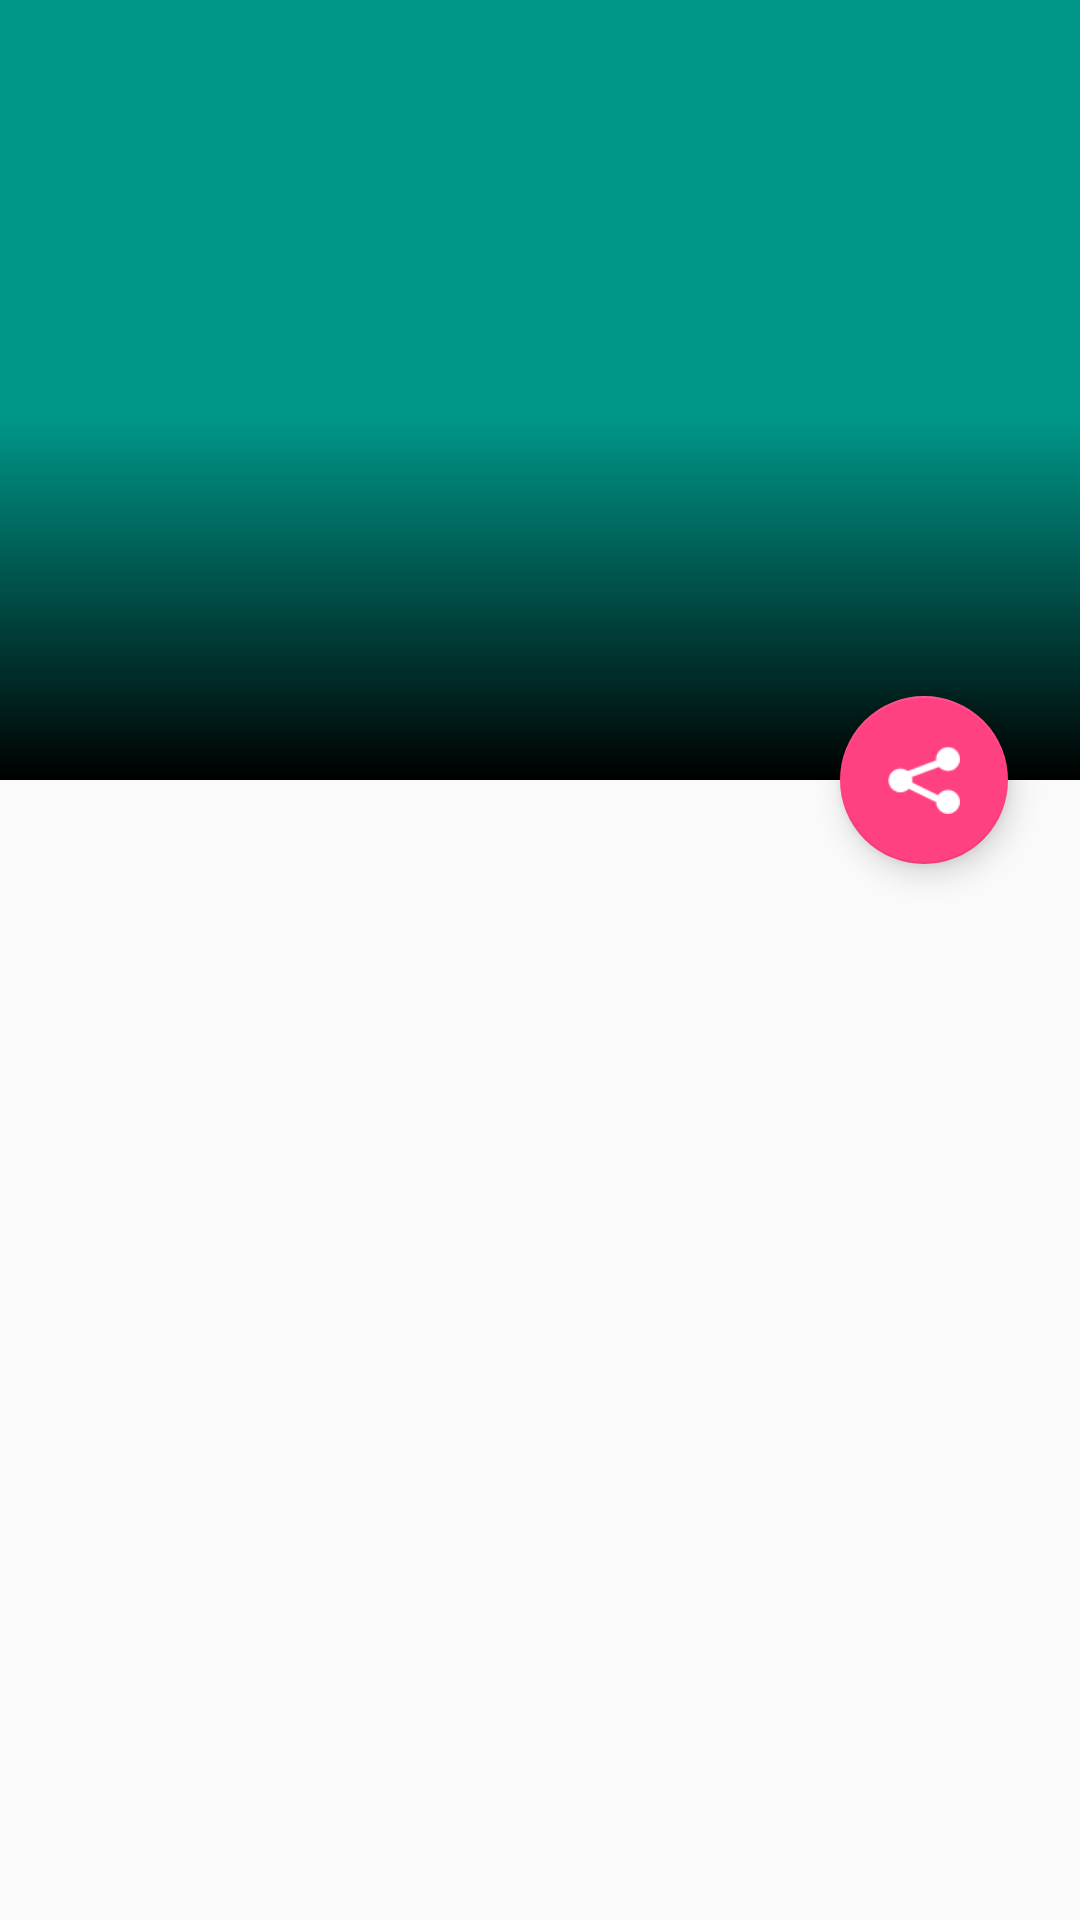

Screen size 1080*1920. Icon name, then its center in pixels as (x,y):
share: (924,780)
